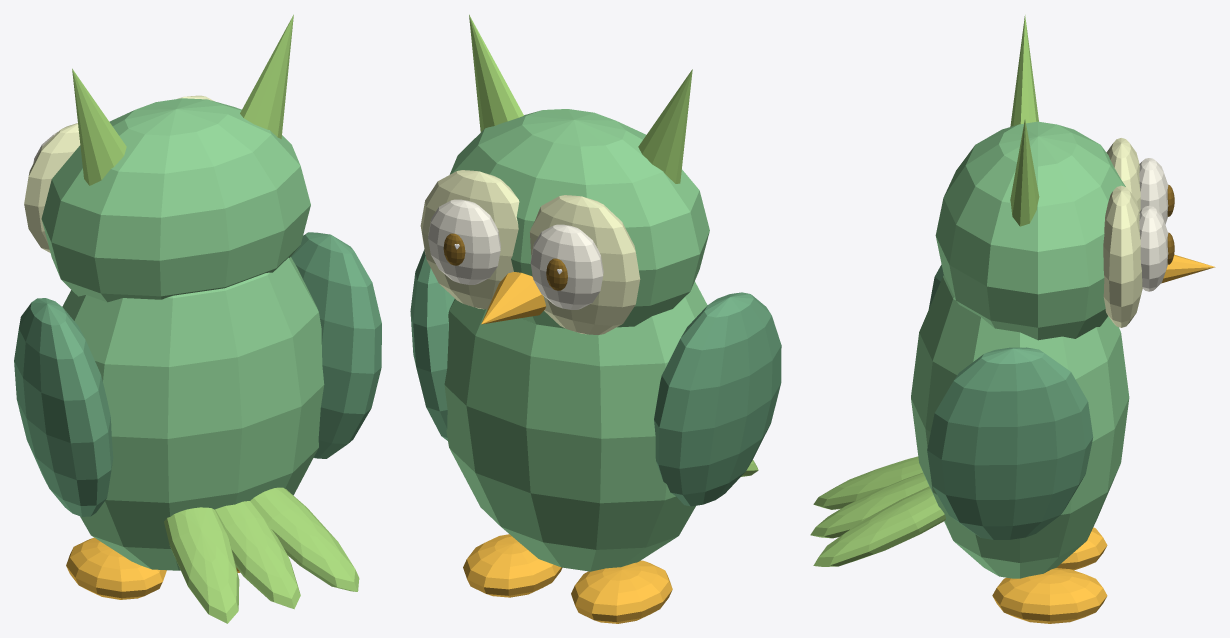
The model's file is Species_2.fbx.
3 views of the same model, side by side, from view 1: azimuth 30°, elevation 25°; view 2: azimuth 150°, elevation 25°; view 3: azimuth 270°, elevation 25° (orthographic). The views are drawn at different scales.
Visible parts, largest first — view 1: Body.002, Head.002, WingL.002, WingR.002, TailLeaf, TailLeaf.002, TailLeaf.001, Foot.004, EarLeaf, EarLeaf.001, FaceMask; view 2: Body.002, Head.002, WingL.002, FaceMask, FaceMask.001, WingR.002, Foot.004, EyeR.002, EyeL.002, Foot.005, EarLeaf, EarLeaf.001 (+3 smaller); view 3: Head.002, WingR.002, Body.002, Foot.005, FaceMask.001, TailLeaf.002, TailLeaf.001, TailLeaf, EyeR.002, EarLeaf.001, EarLeaf, EyeL.002 (+3 smaller).
Part boxes in pixels (<box>): Body.002: <box>62,257,324,570</box>; Head.002: <box>41,98,310,302</box>; WingL.002: <box>14,298,113,516</box>; WingR.002: <box>291,232,381,458</box>; TailLeaf: <box>164,507,239,623</box>; TailLeaf.002: <box>250,487,359,591</box>; TailLeaf.001: <box>215,501,300,609</box>; Foot.004: <box>66,537,166,599</box>; EarLeaf: <box>72,68,126,185</box>; EarLeaf.001: <box>240,14,293,138</box>; FaceMask: <box>24,123,80,252</box>; Body.002: <box>444,281,707,571</box>; Head.002: <box>449,109,709,328</box>; WingL.002: <box>654,292,781,506</box>; FaceMask: <box>529,195,640,334</box>; FaceMask.001: <box>420,170,519,309</box>; WingR.002: <box>410,249,454,440</box>; Foot.004: <box>571,560,672,623</box>; EyeR.002: <box>428,199,500,284</box>; EyeL.002: <box>530,224,603,309</box>; Foot.005: <box>463,534,562,597</box>; EarLeaf: <box>638,69,692,183</box>; EarLeaf.001: <box>469,14,523,132</box>; Head.002: <box>935,121,1125,340</box>; WingR.002: <box>927,347,1093,539</box>; Body.002: <box>911,275,1129,578</box>; Foot.005: <box>992,568,1107,623</box>; FaceMask.001: <box>1103,185,1142,327</box>; TailLeaf.002: <box>813,486,945,566</box>; TailLeaf.001: <box>810,472,928,538</box>; TailLeaf: <box>813,456,922,509</box>; EyeR.002: <box>1139,205,1168,291</box>; EarLeaf.001: <box>1010,119,1039,226</box>; EarLeaf: <box>1010,15,1038,126</box>; EyeL.002: <box>1139,158,1168,224</box>.
Size of the model in its own units: 372 by 583 by 408.
